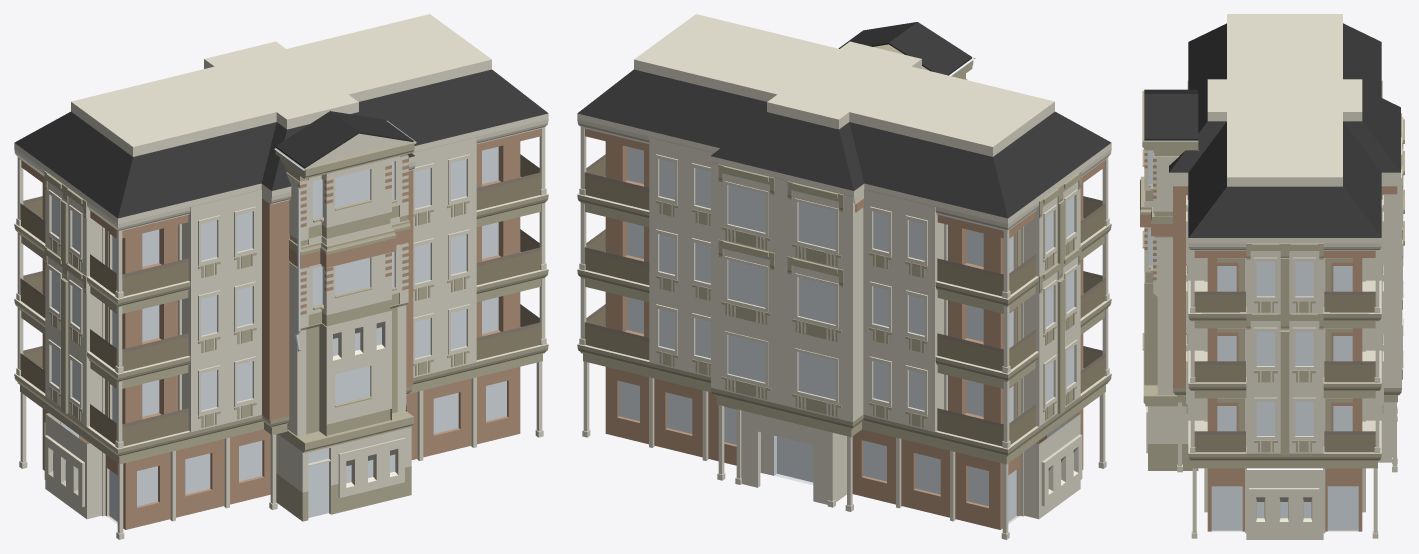
The model's file is TownHouse Apartment.FBX.
The picture shows the model from 3 angles, left to right: view 1: azimuth 30°, elevation 25°; view 2: azimuth 150°, elevation 25°; view 3: azimuth 270°, elevation 25°; orthographic projection. The views are drawn at different scales.
Visible parts, largest first — view 1: Cube.010; view 2: Cube.010; view 3: Cube.010.
Boxes of the visible parts, bbox=[...] form: Cube.010: bbox=[14, 14, 548, 539]; Cube.010: bbox=[577, 14, 1111, 539]; Cube.010: bbox=[1140, 14, 1404, 539].
Bounding box in the file's own units: 50.22 × 41.5 × 28.26.
